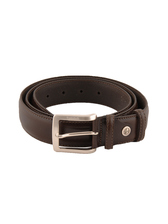other: (13, 77, 155, 152)
